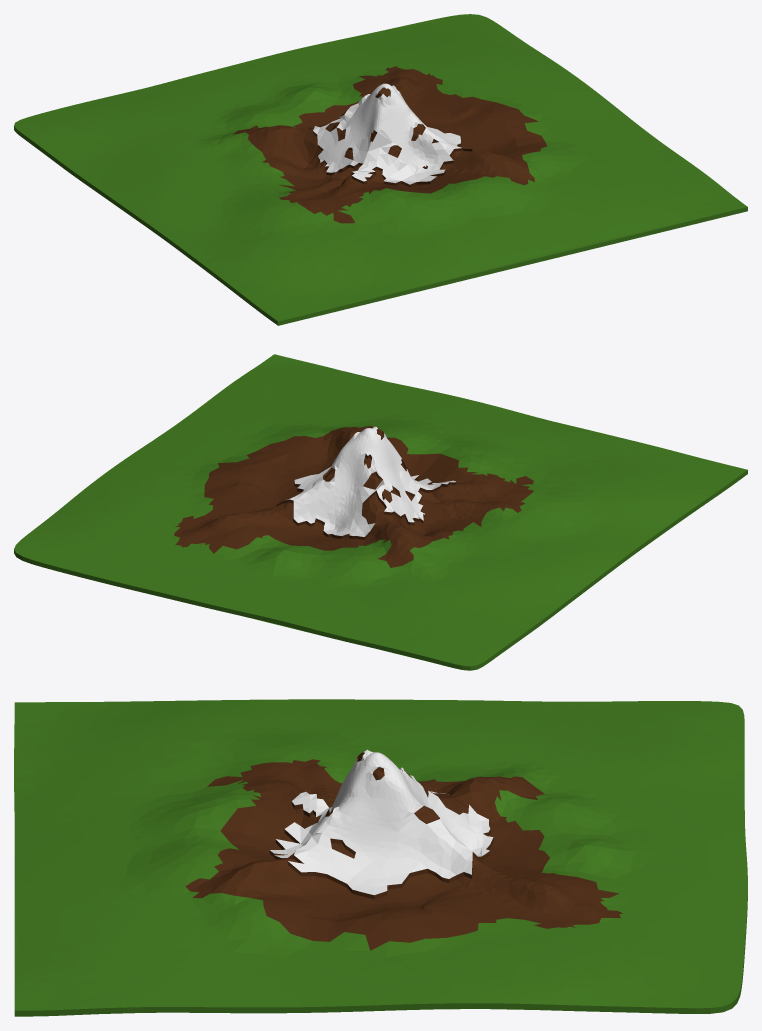
File: mountain.glb
3 views of the same model, one above another, from view 1: azimuth 30°, elevation 25°; view 2: azimuth 150°, elevation 25°; view 3: azimuth 270°, elevation 25° (orthographic). The views are drawn at different scales.
Parts seen in each view (by area): view 1: mountain; view 2: mountain; view 3: mountain.
Boxes of the visible parts, <box> form: mountain: <box>14,14,747,325</box>; mountain: <box>14,354,747,670</box>; mountain: <box>14,699,747,1016</box>.
Size of the model in its own units: 181 by 31.1 by 182.
